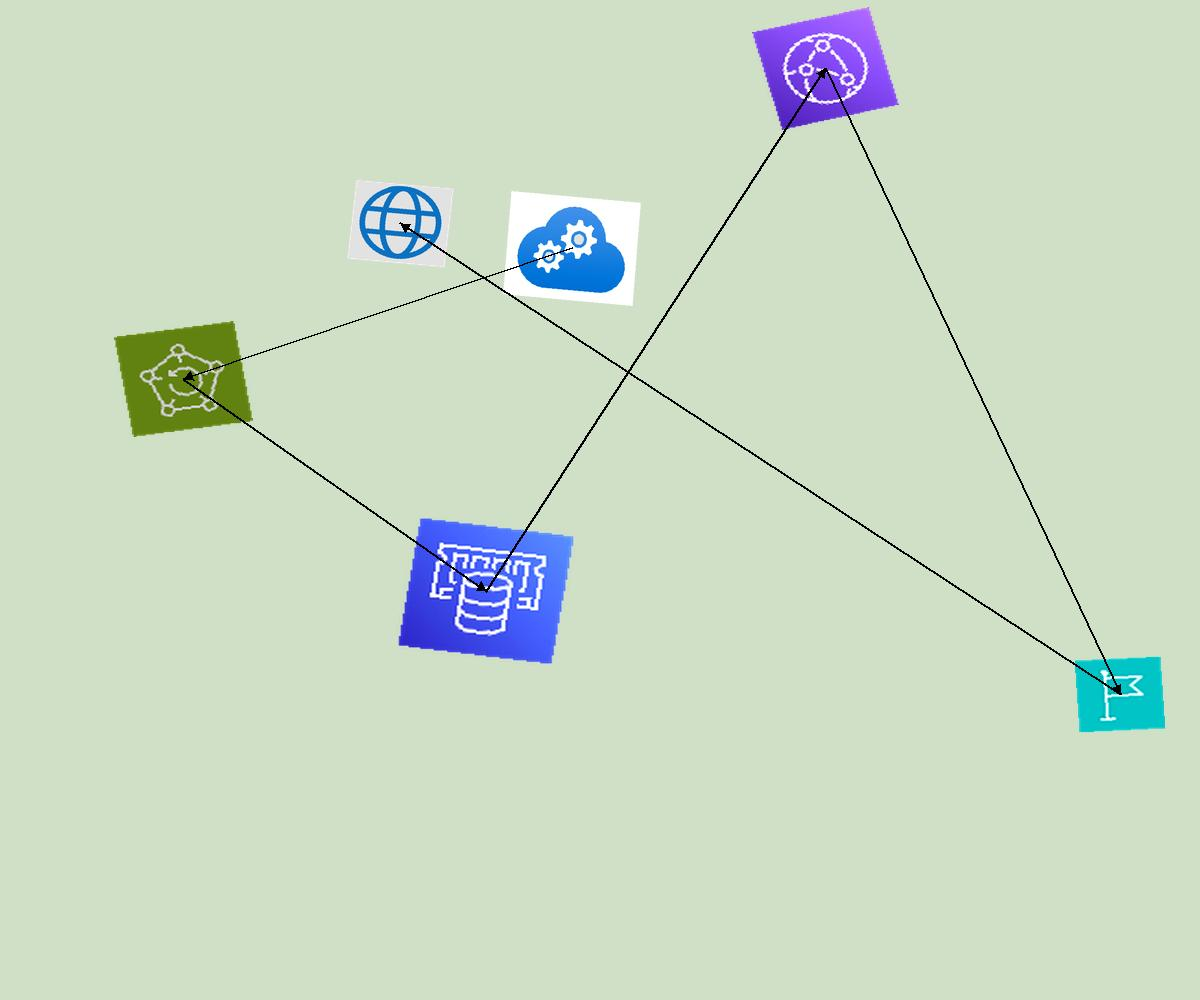AWS-Backup: (114, 321, 253, 437)
AWS-CloudFront: (752, 7, 899, 130)
AWS-ElastiCache: (397, 517, 575, 665)
AWS-Region: (1074, 656, 1166, 733)
Azure_cloud_services: (503, 191, 641, 306)
Azure_http: (347, 179, 454, 268)
